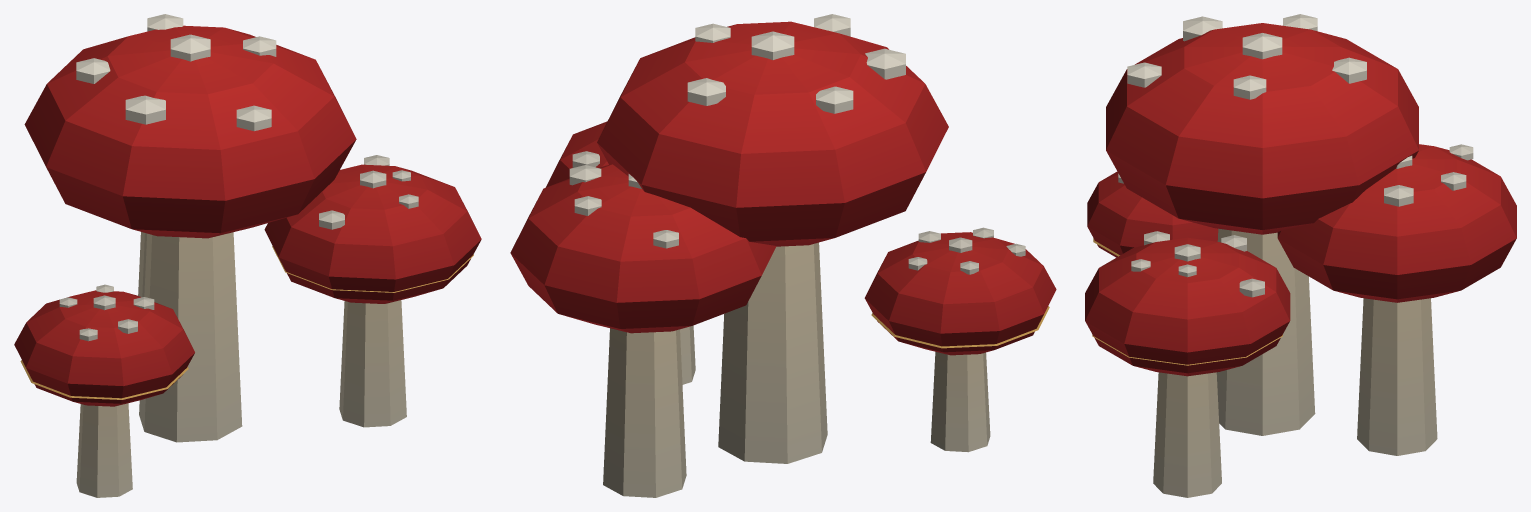
The model's file is toadstool_cluster.glb.
3 views of the same model, side by side, from view 1: azimuth 30°, elevation 25°; view 2: azimuth 150°, elevation 25°; view 3: azimuth 270°, elevation 25° (orthographic). The views are drawn at different scales.
Visible parts, largest first — view 1: toadstool_cluster; view 2: toadstool_cluster; view 3: toadstool_cluster.
Boxes of the visible parts, box(x1,y1,x2,y2) form: toadstool_cluster: box(14, 14, 481, 497); toadstool_cluster: box(510, 14, 1056, 497); toadstool_cluster: box(1085, 14, 1516, 497).
Bounding box in the file's own units: 1.71 × 1.39 × 1.44.
